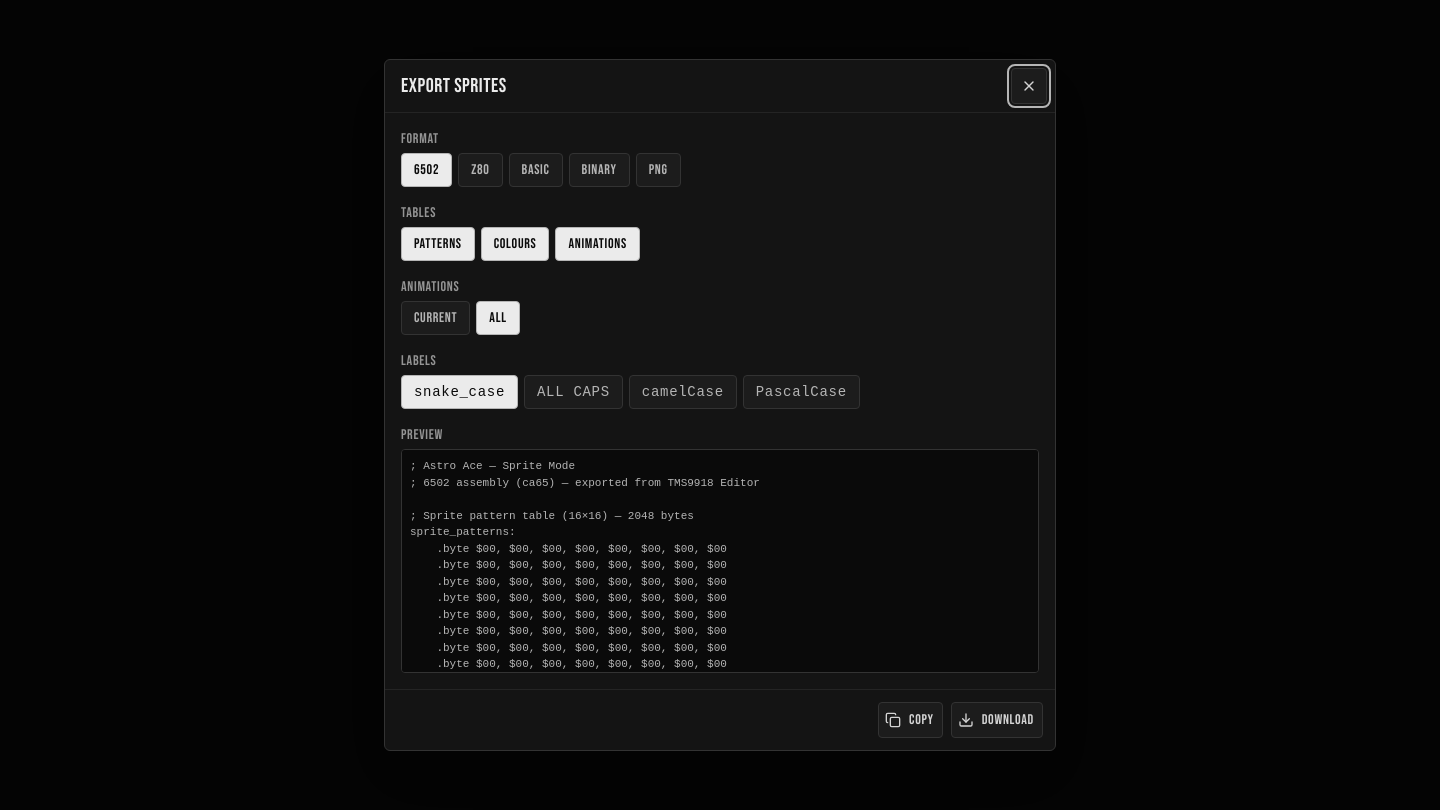
Test case: ExportDialog (sprite scope) › refuses a film strip of an empty animation but allows the sheet
This screenshot has width=1440, height=810.
Click the button "PNG" at (658, 170), box [636, 153, 681, 187]
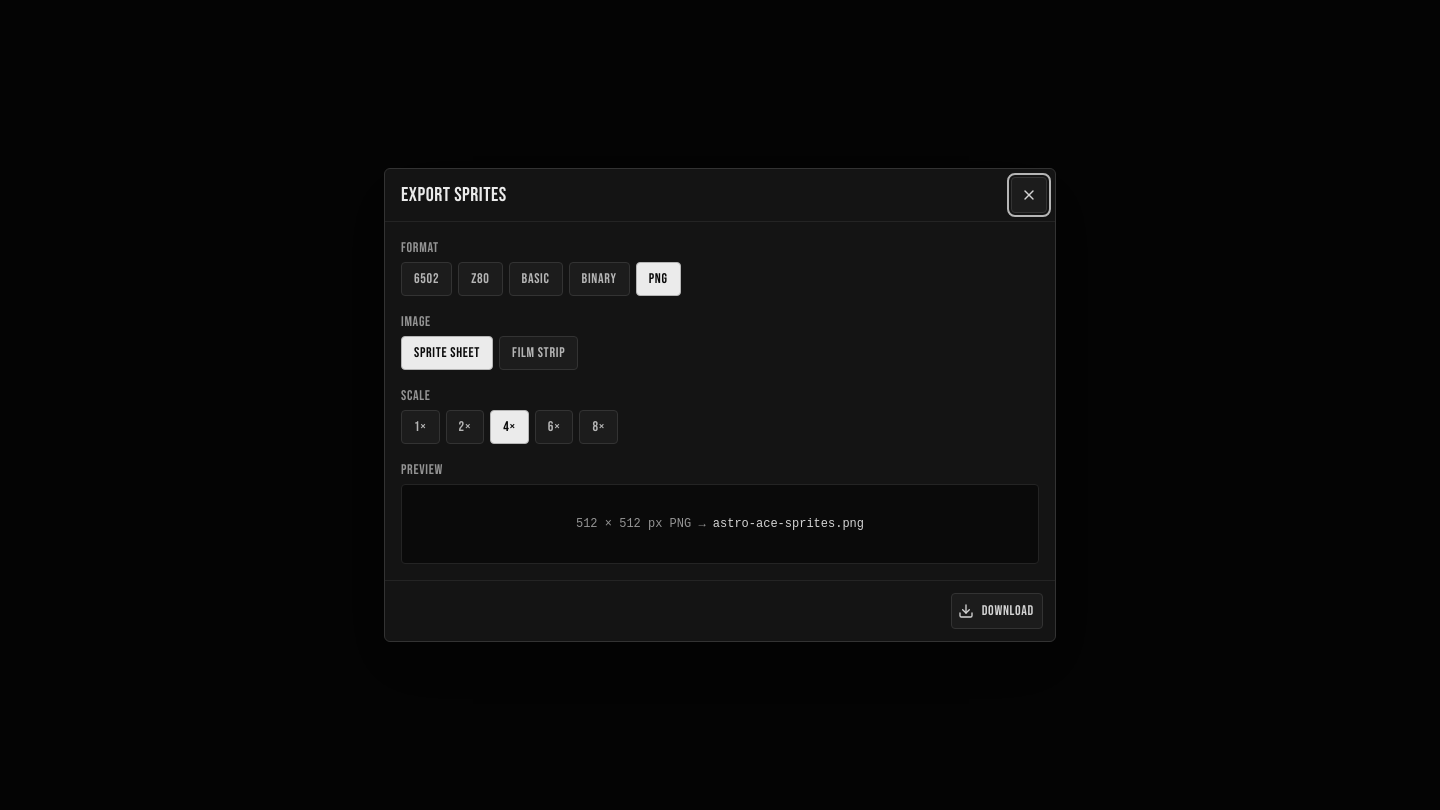
Click the button "Film Strip" at (539, 353), box [499, 336, 578, 370]
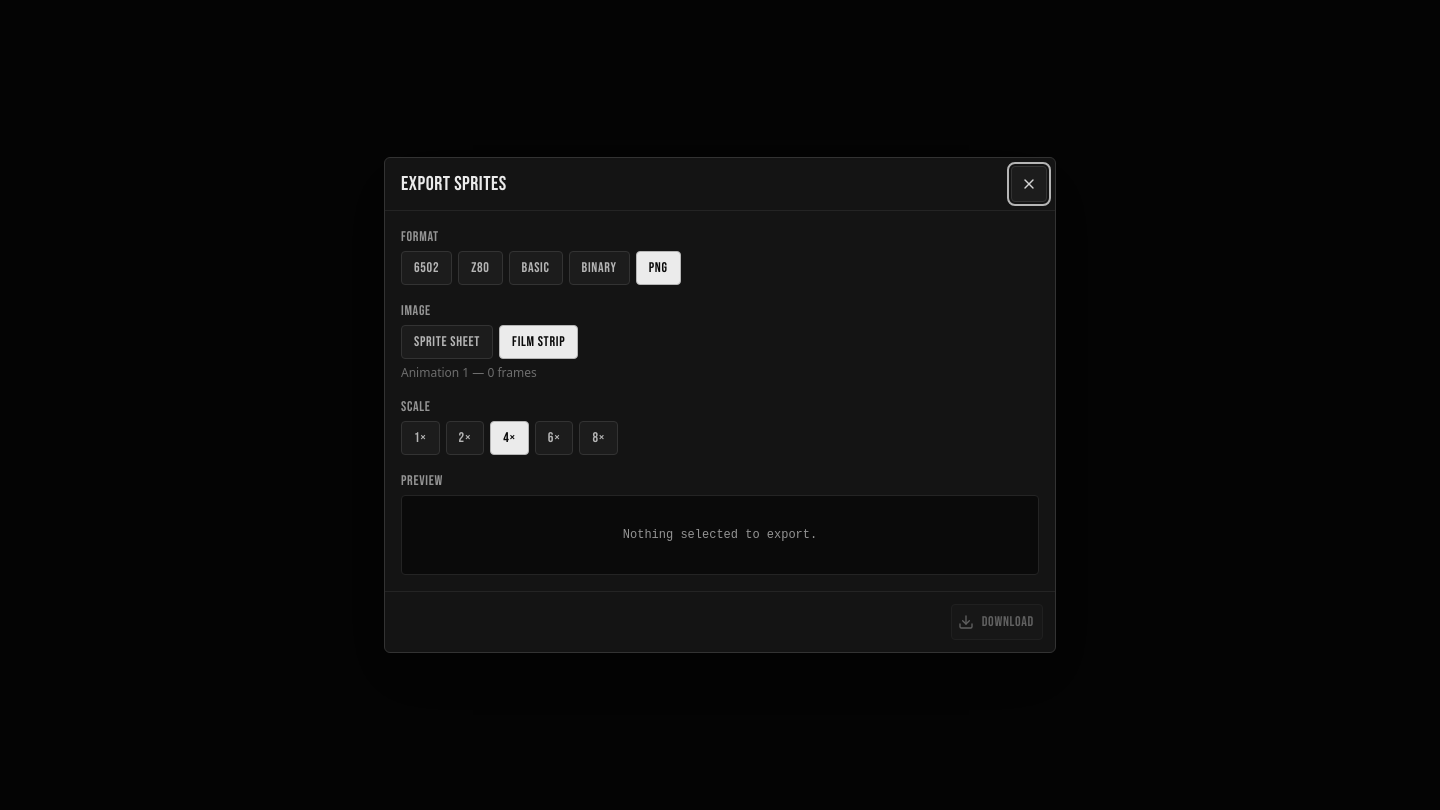
Expected: the button "Download" is disabled, [951, 604, 1043, 640]
Click the button "Sprite Sheet" at (447, 342), box [401, 325, 493, 359]
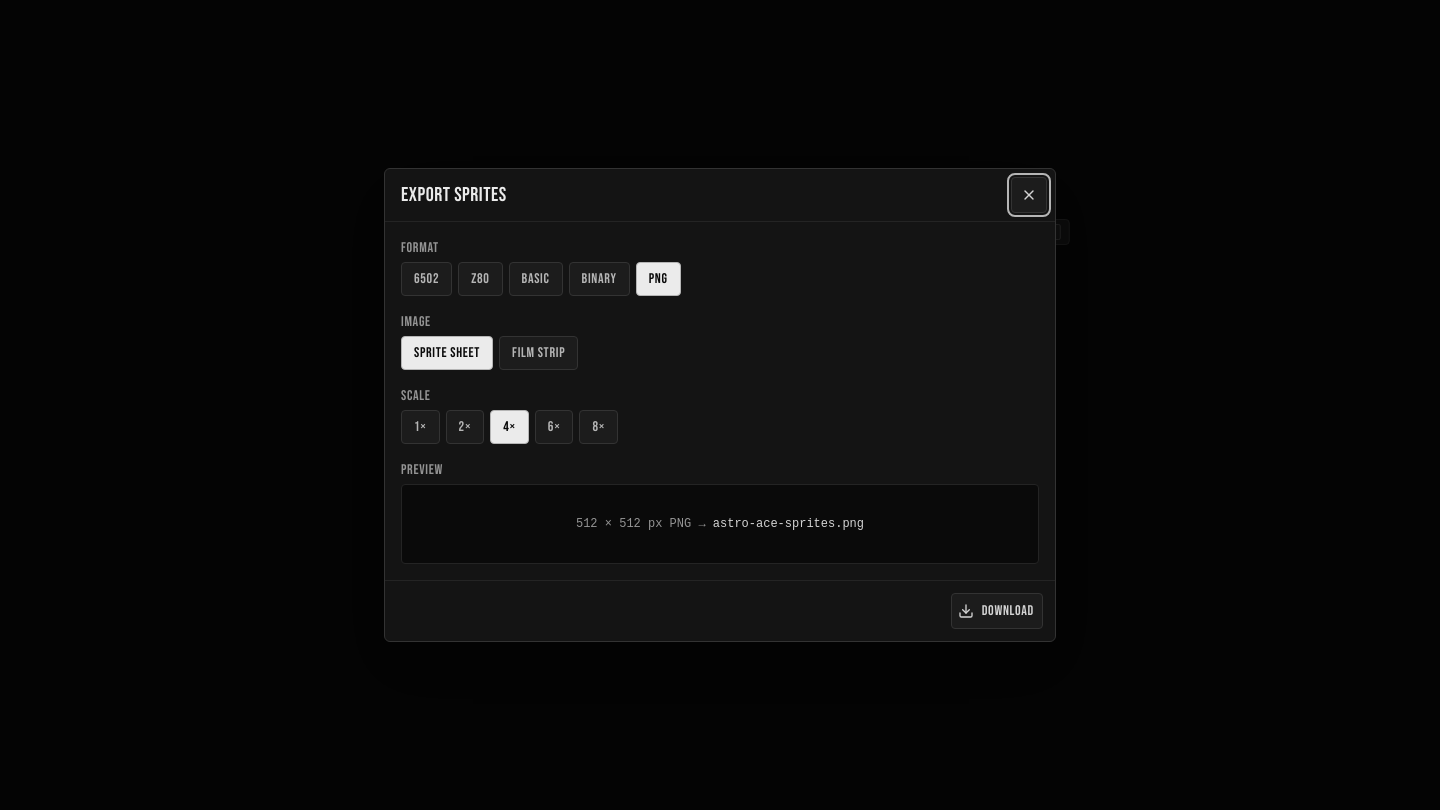
Expected: the button "Download" is enabled, [951, 593, 1043, 629]
